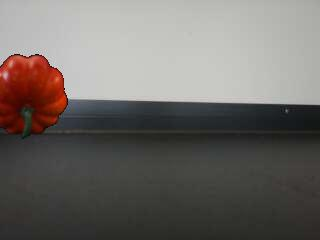Pumpkin: (0, 54, 67, 141)
